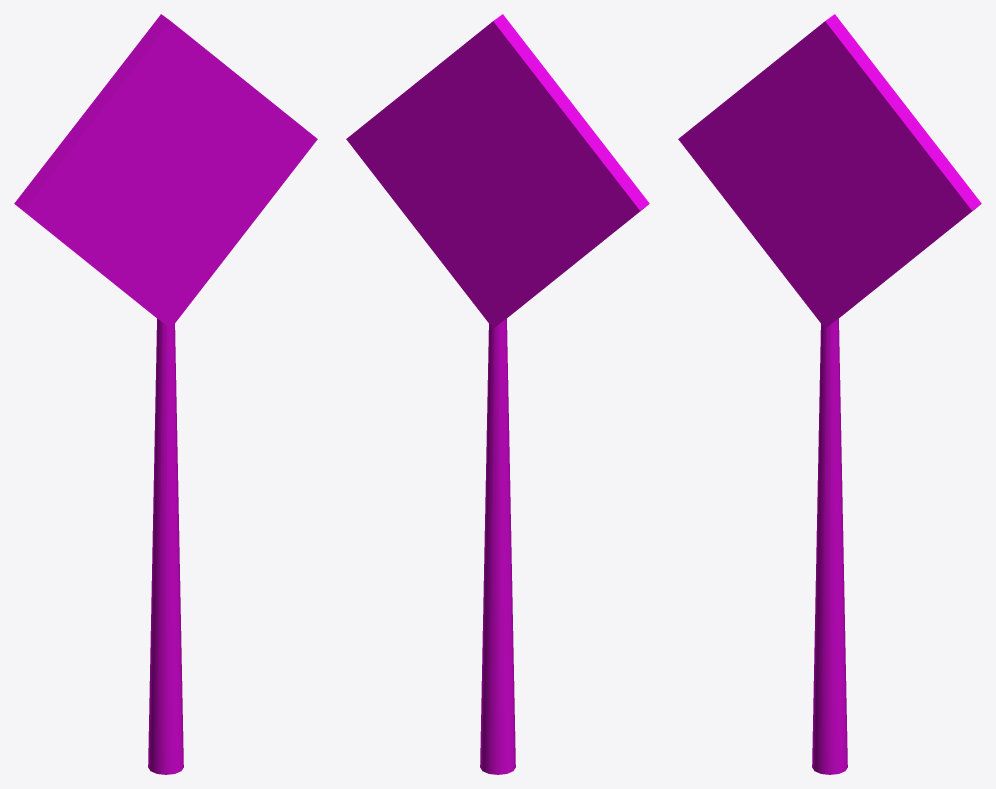
The model's file is SignModel.fbx.
3 views of the same model, side by side, from view 1: azimuth 30°, elevation 25°; view 2: azimuth 150°, elevation 25°; view 3: azimuth 330°, elevation 25° (orthographic).
Parts seen in each view (by area): view 1: Sign; view 2: Sign; view 3: Sign.
Part boxes in pixels (box(x1,y1,x2,y2)): Sign: box(14, 14, 317, 774); Sign: box(346, 14, 649, 774); Sign: box(678, 14, 981, 774).
Bounding box in the file's own units: 41.14 × 100 × 4.33.
